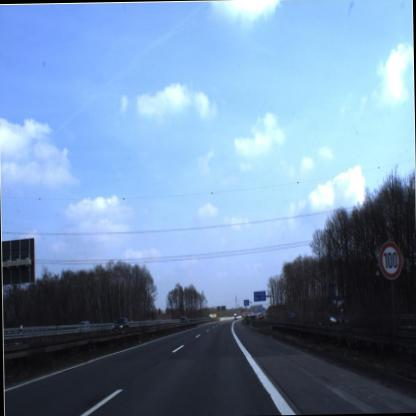prohibitory: (372, 238, 406, 286)
